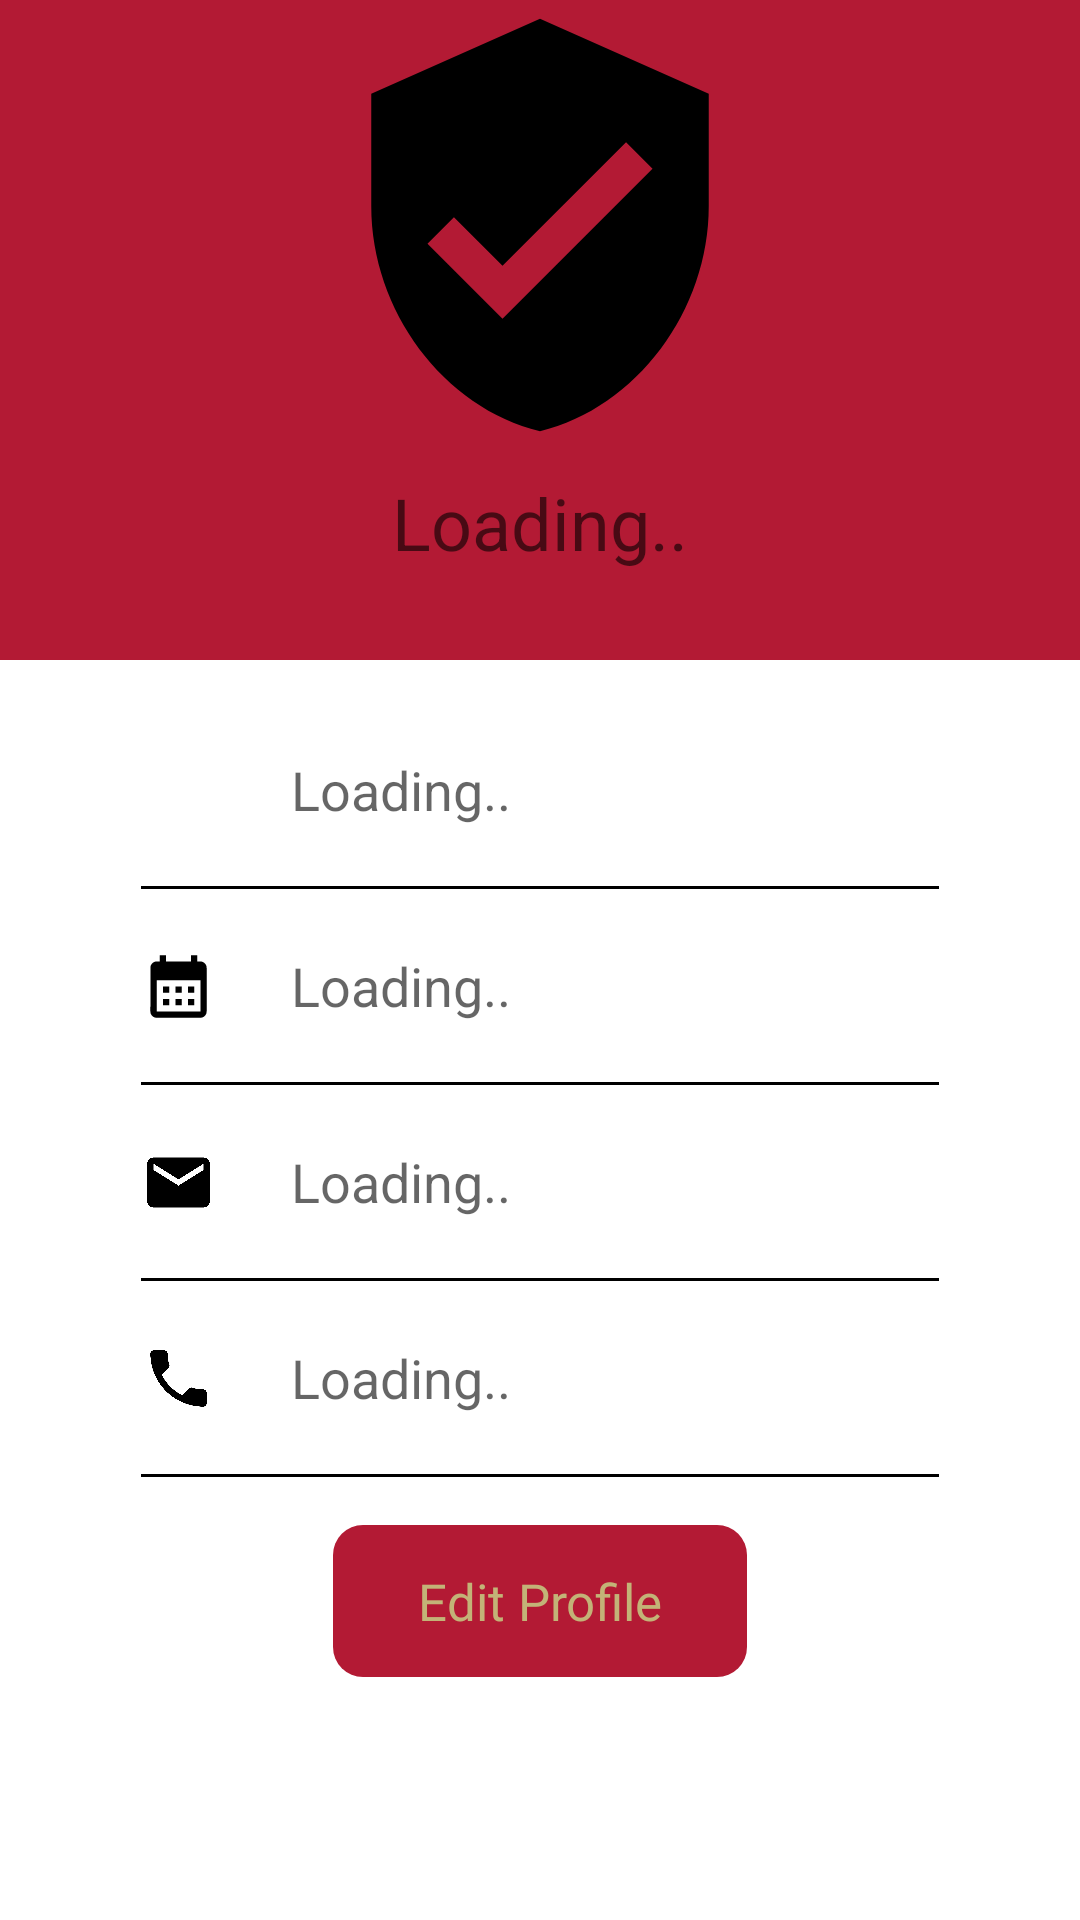

Icon click points for this 1080px x 1920px phone screenshot, format [x,y]:
calendar month: [178,986]
mail: [178,1182]
phone: [178,1378]
